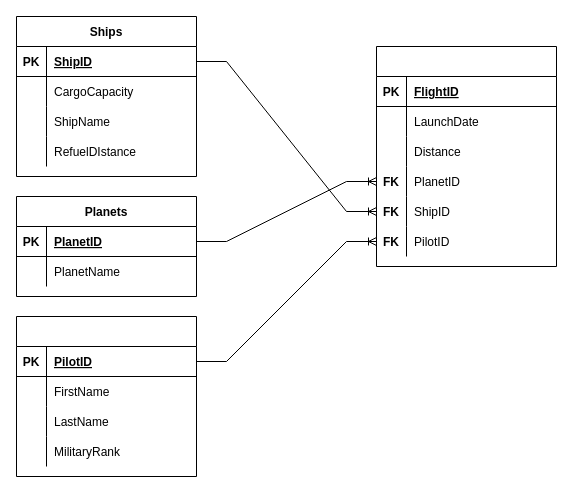
The diagram is 573 pixels wide and 493 high, and some of its shapes have lost their labels. Here are the shapes that lost their labels. From the top down, the box of each, then its label:
(376, 46, 556, 266): Flights
(16, 316, 196, 476): Pilots
